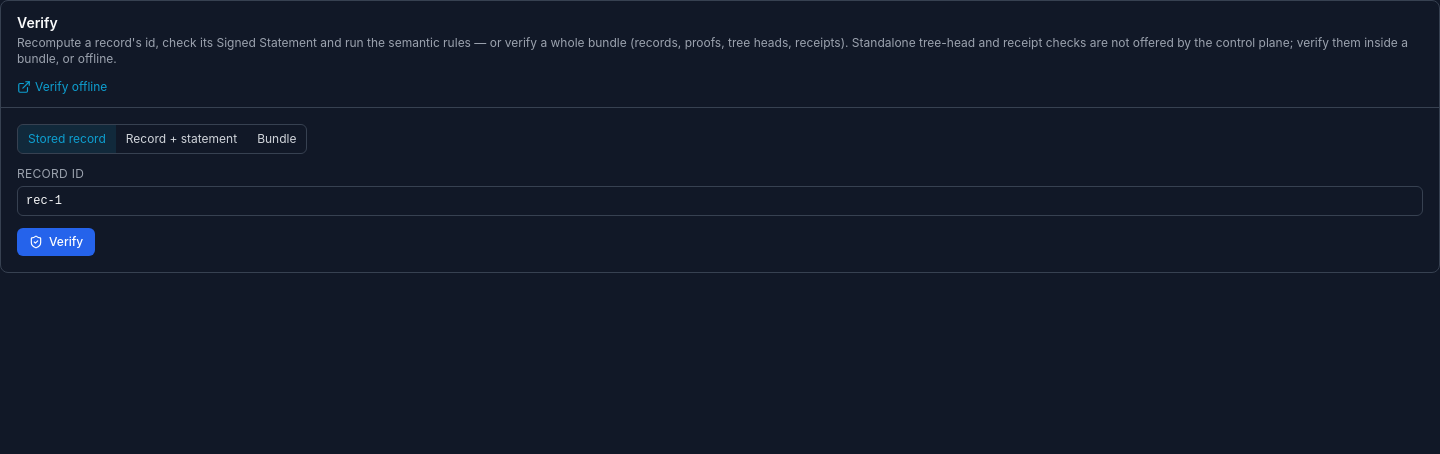
Test: VerifyPanel › verifies a stored record by id and groups findings; an error gates the result
The width and height of the screenshot is (1440, 454).
Expected: the field with test id "verify-record-id" holds "rec-1", [17,186,1423,216]
Click the button with test id "verify-run".
click(56, 242)  # box [17,228,95,256]
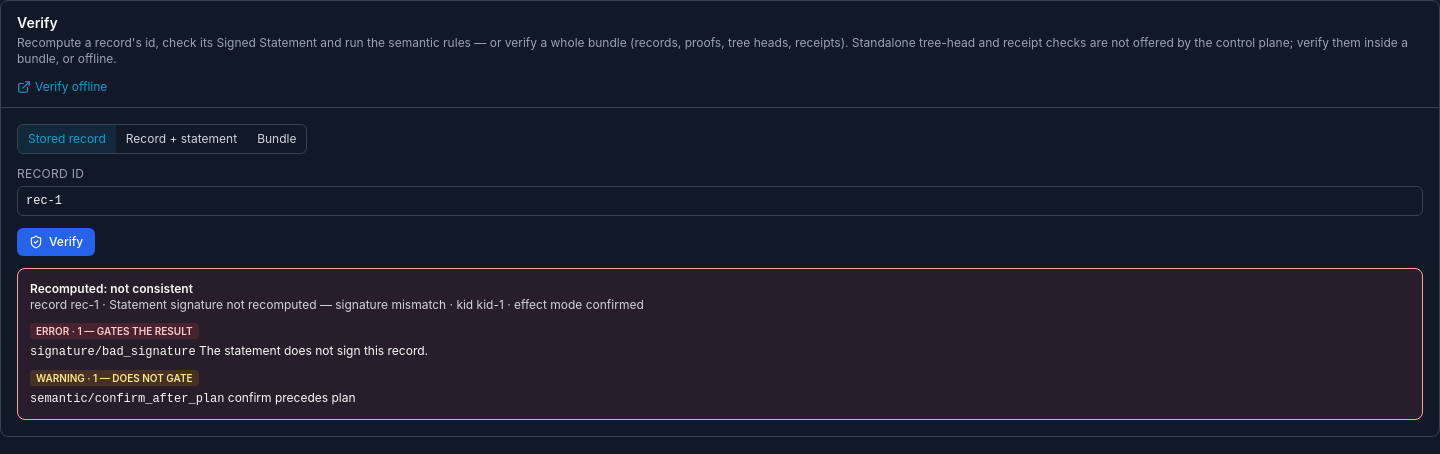
Expected: the element with test id "verify-result" shows "Recomputed: not consistent", [30,281,193,296]
Expected: the element with test id "verify-result" shows "not recomputed — signature mismatch · kid kid-1 · effect mode confirmed", [17,268,1423,420]
Expected: the text "error · 1 — gates the result" is shown, [30,323,198,339]
